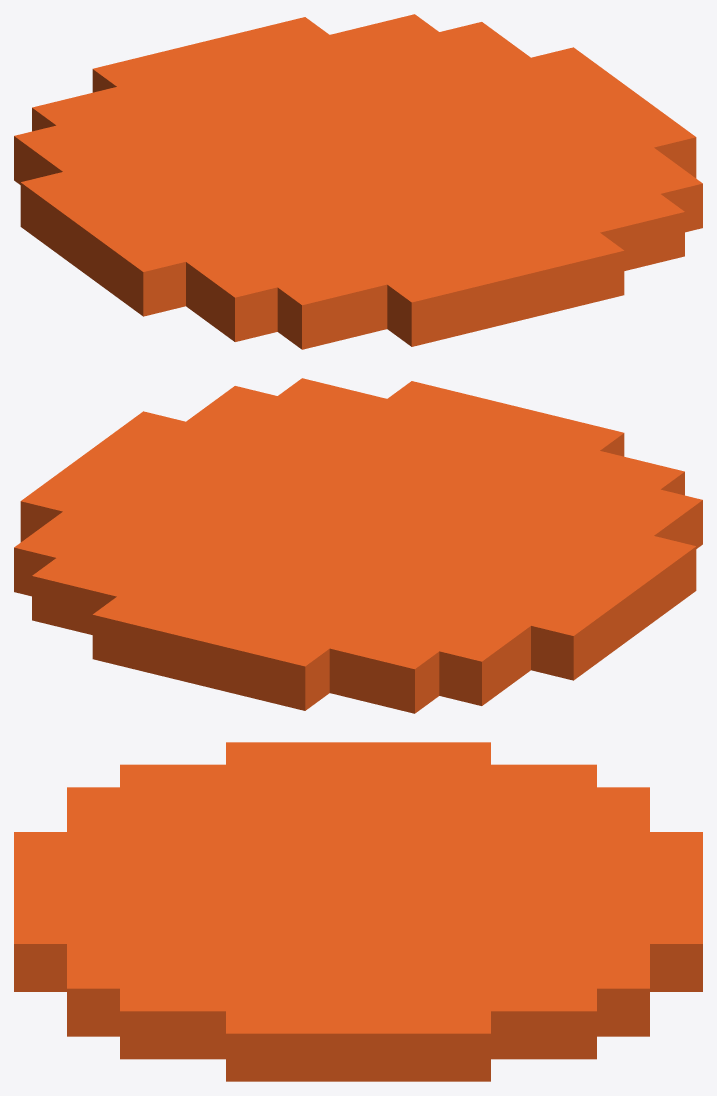
The model's file is splash_d.obj.
The picture shows the model from 3 angles, top to bottom: view 1: azimuth 30°, elevation 25°; view 2: azimuth 150°, elevation 25°; view 3: azimuth 270°, elevation 25°; orthographic projection. The views are drawn at different scales.
Size of the model in its own units: 1.3 by 0.1 by 1.3.
Materials: 1 (1 with a texture image).
